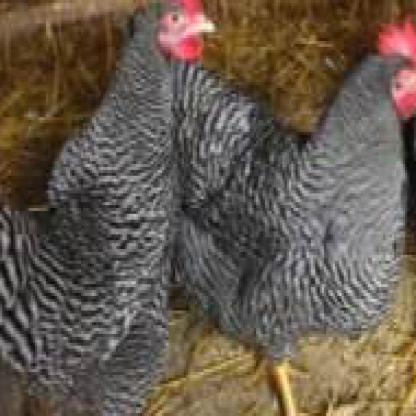chicken: (177, 18, 416, 413), (2, 0, 219, 413)
